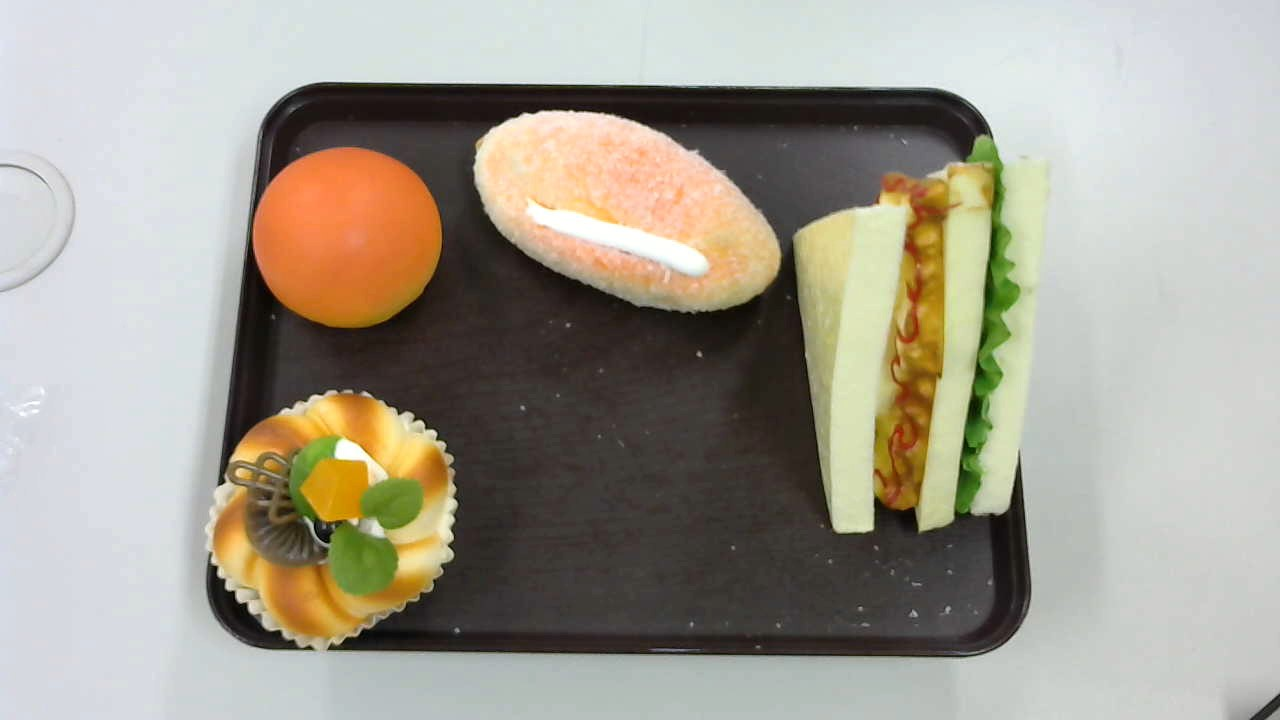bun: (250, 147, 442, 327)
coconut: (471, 110, 783, 313)
fruit tart: (205, 389, 458, 652)
sandwich: (793, 135, 1059, 537)
